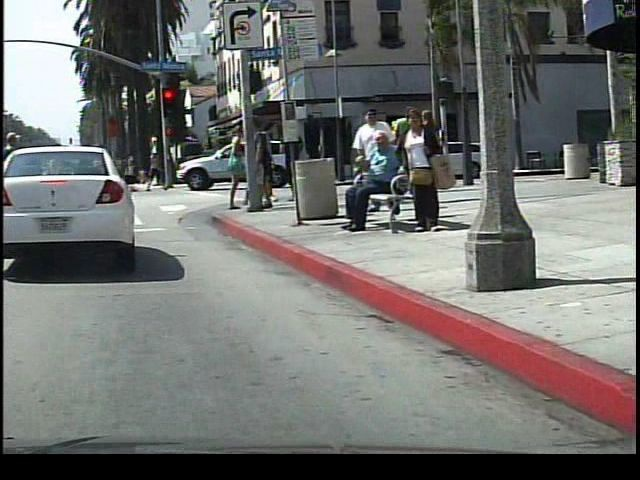person: (338, 133, 407, 240), (390, 108, 442, 234), (219, 123, 246, 212), (140, 149, 166, 197)
